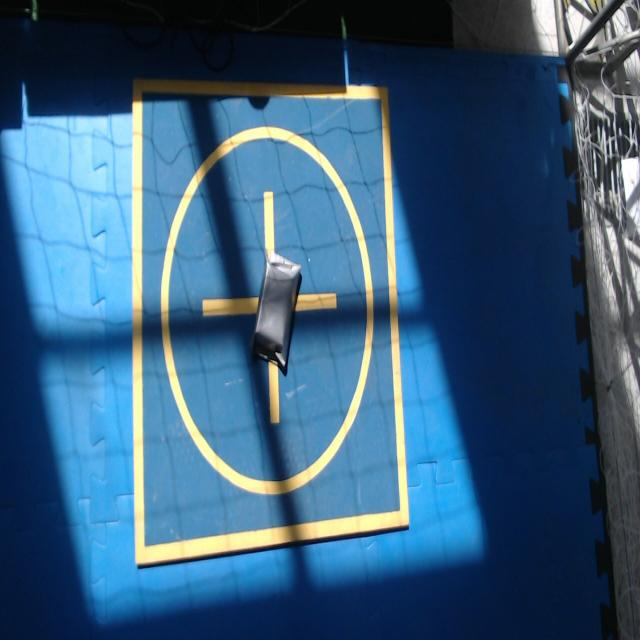direita: (252, 252, 301, 374)
